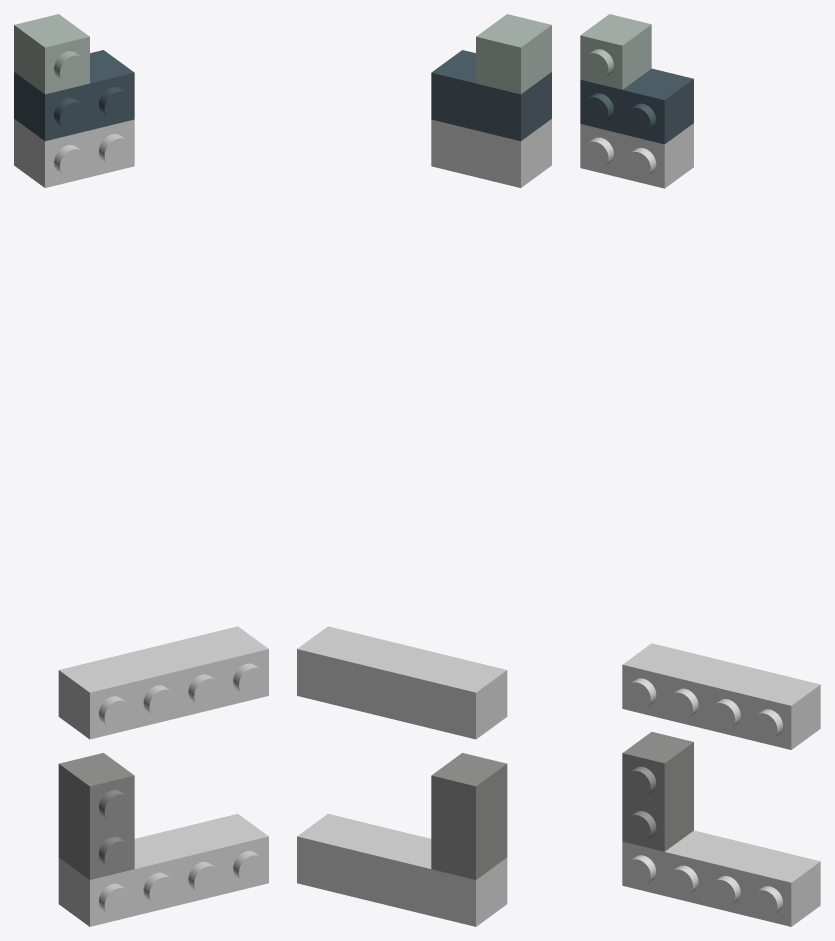
File: current.glb
3 views of the same model, side by side, from view 1: azimuth 30°, elevation 25°; view 2: azimuth 150°, elevation 25°; view 3: azimuth 330°, elevation 25° (orthographic). The views are drawn at different scales.
Visible parts, largest first — view 1: world; view 2: world; view 3: world.
Boxes of the visible parts, x1,y1,x2,y2 form: world: (14,14,268,926); world: (297,14,551,926); world: (580,14,820,926).
Bounding box in the file's own units: 40 × 152 × 11.4.
